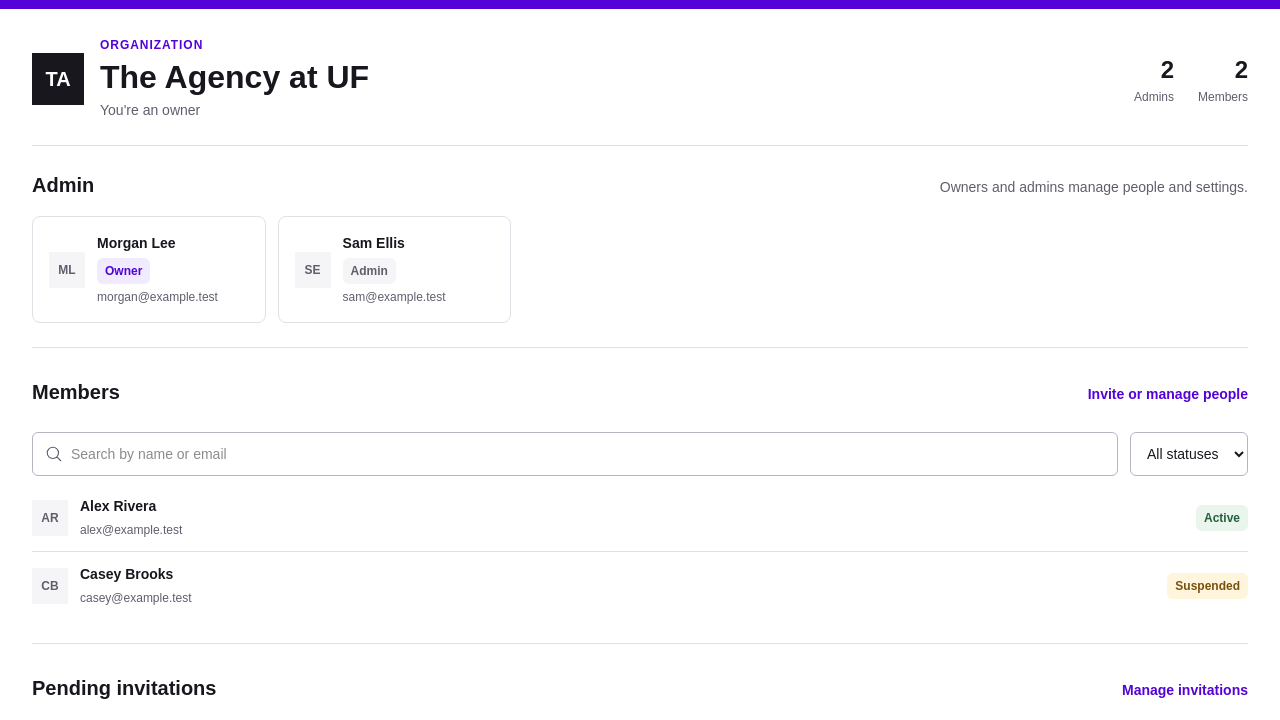
Scenario: Organization directory › filters members by search and status
Select "Suspended" in the dropdown named "Filter by status" at (1189, 454), box 1130,432 -> 1248,476
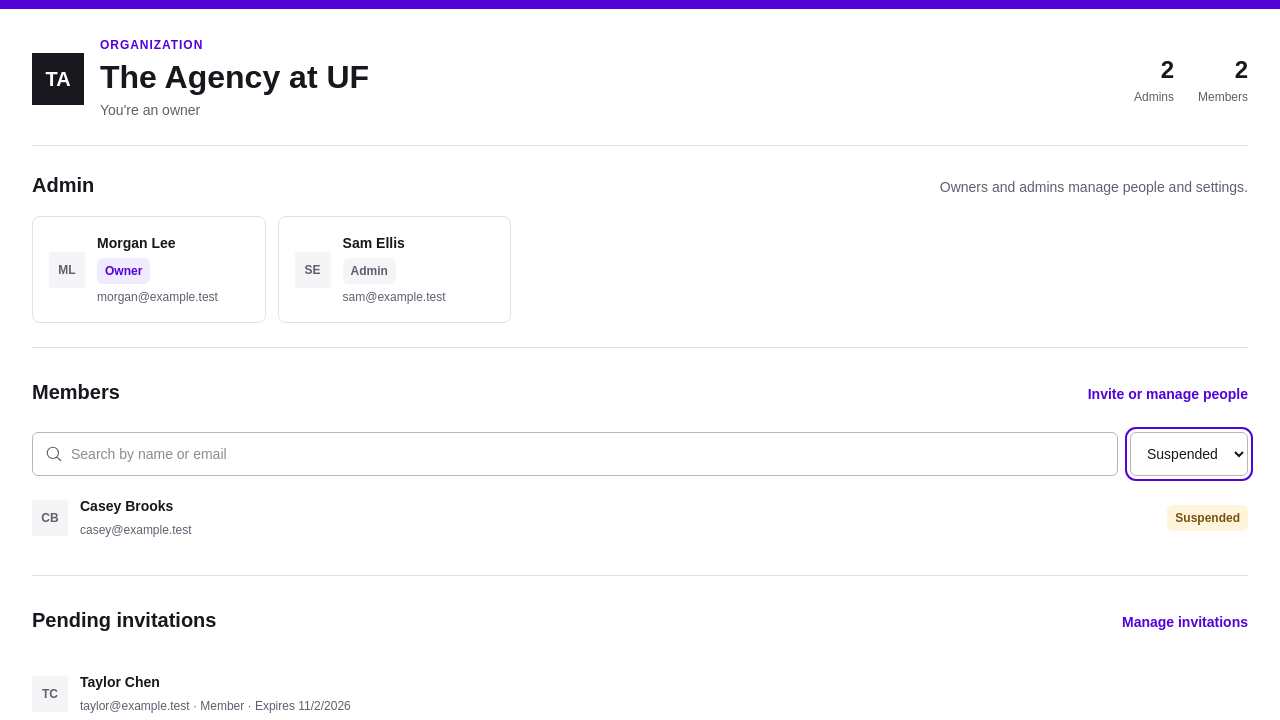
Now the text "Alex Rivera" is gone
Select "All statuses" in the dropdown named "Filter by status" at (1189, 454), box 1130,432 -> 1248,476
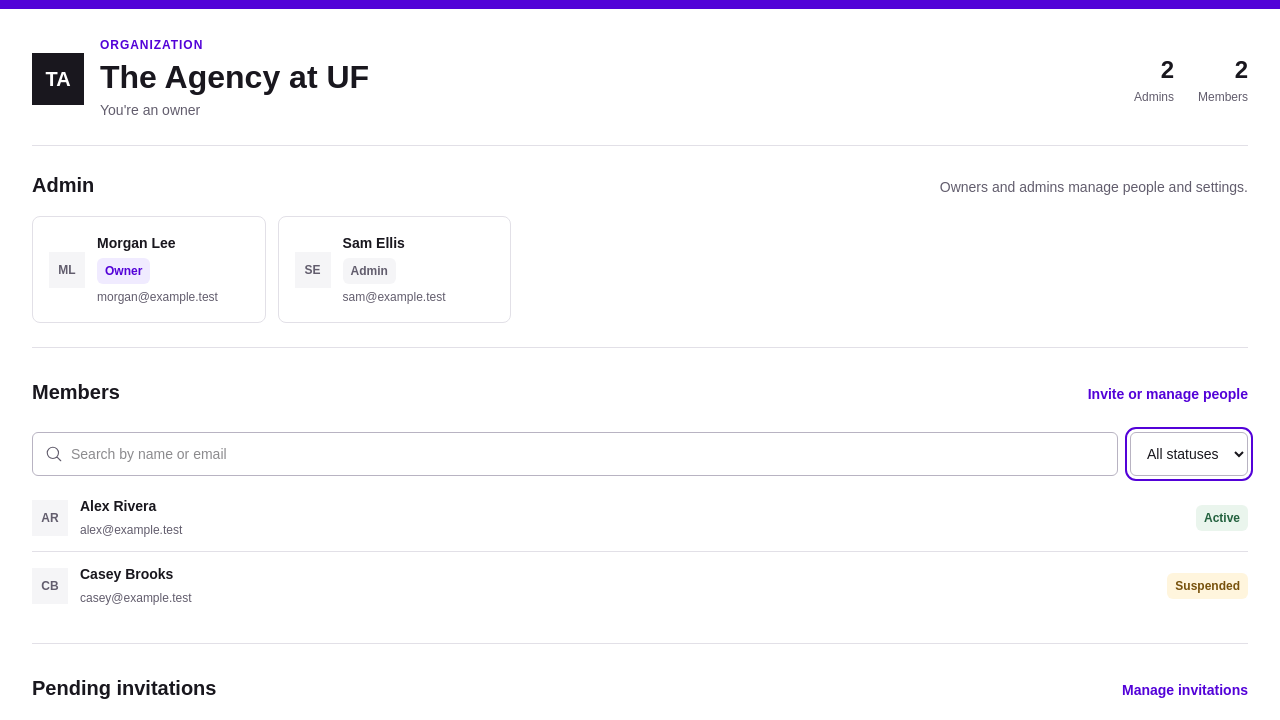
Type "alex@" into the field named "Search members" at (588, 454), box 71,444 -> 1105,465
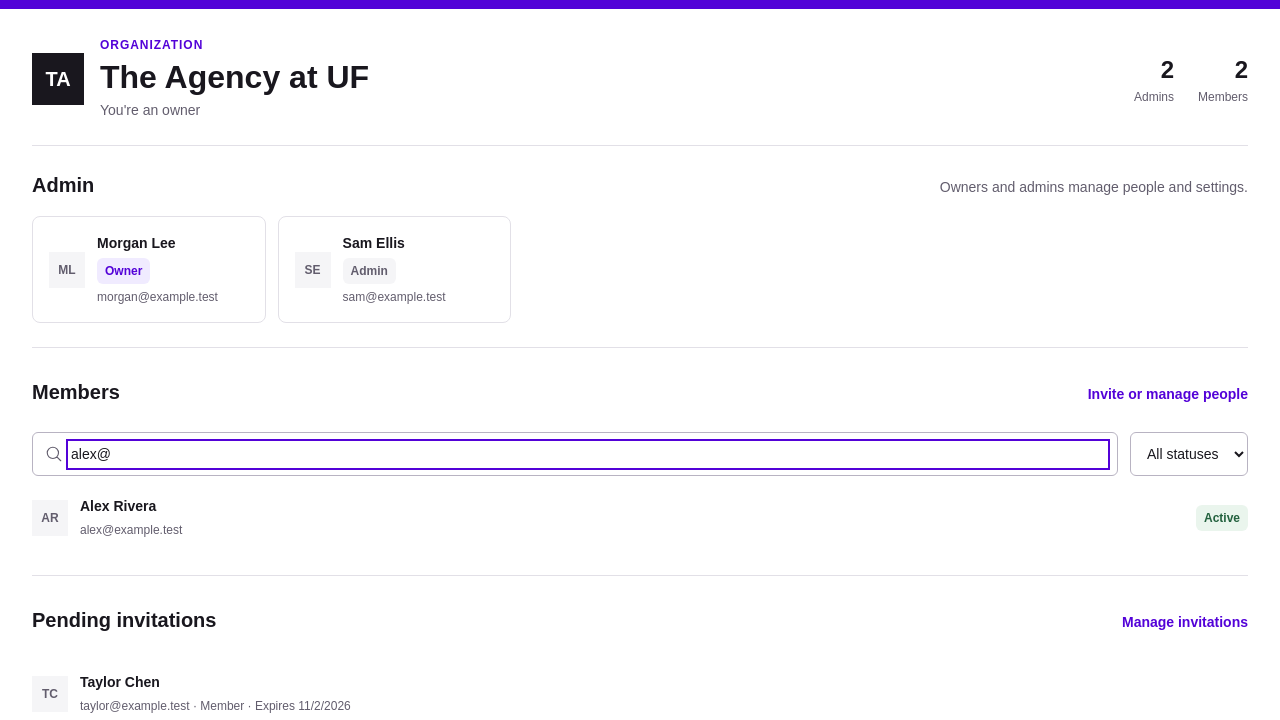
Now the text "Alex Rivera" is shown, box 80,498 -> 156,514
Now the text "Casey Brooks" is gone
